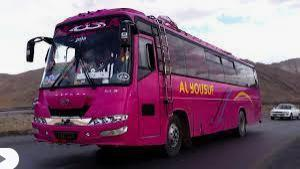bus: (26, 8, 261, 158)
